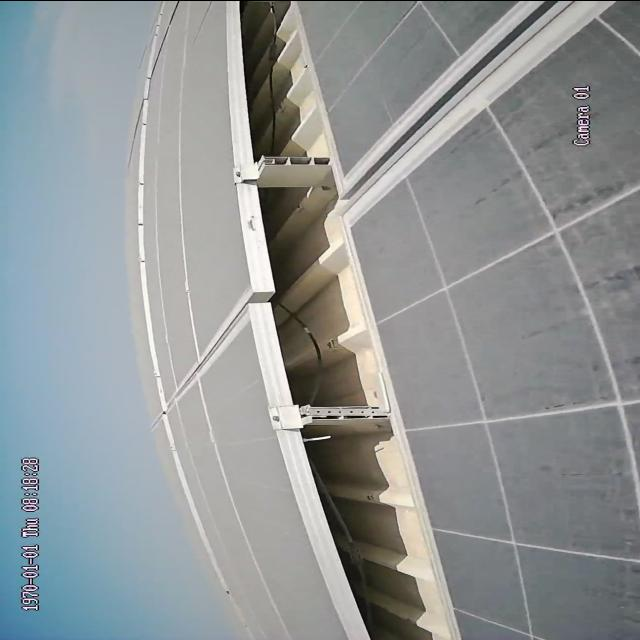interior panel: (348, 3, 614, 213), (175, 286, 244, 400)
outher panel: (228, 0, 456, 638)
